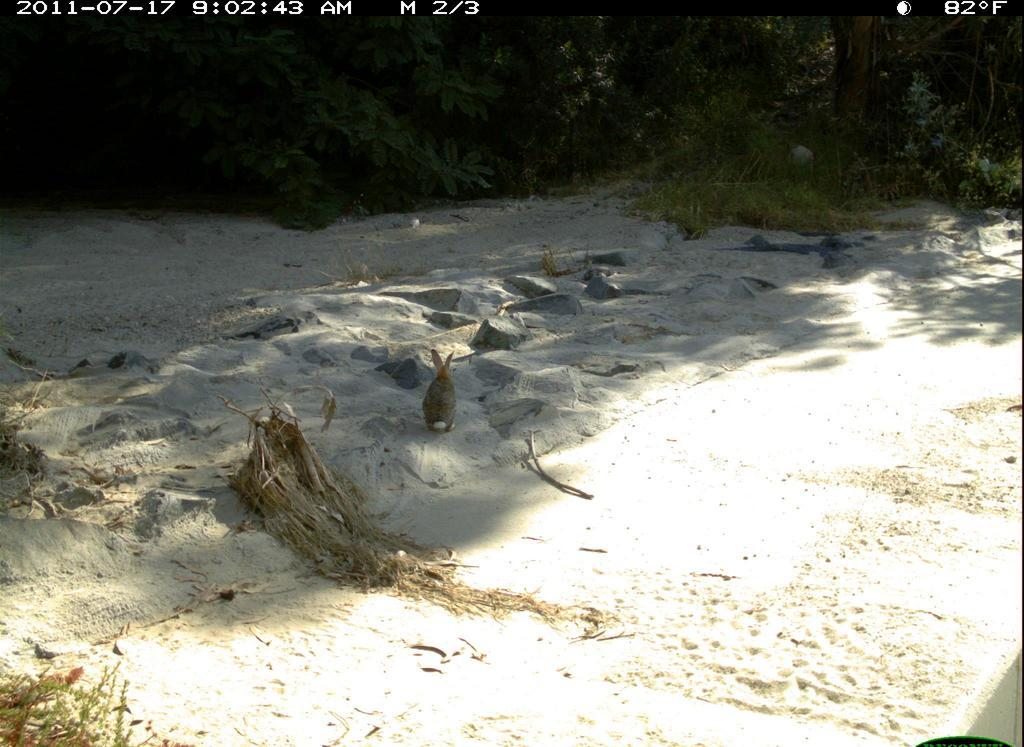rabbit: (424, 337, 468, 445)
